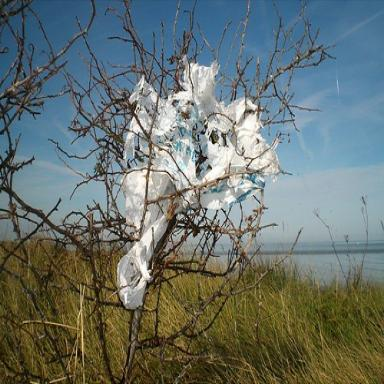plasticbag: (116, 54, 280, 307)
